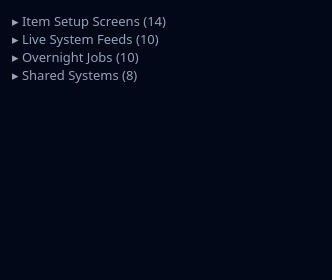
it: TreeView › clicking a node re-roots the tree at that node and shows a back control
Click the text "Overnight Jobs".
click(67, 57)  # box [22,48,112,66]
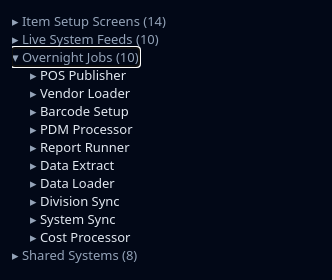
Click the button "POS Publisher".
click(83, 75)  # box [40,66,126,84]
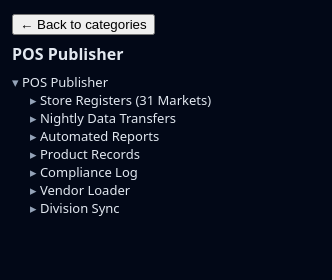
Now the button "← Back to categories" is shown, box [12,14,155,35]
Now the text with test id "tree-root-label" reads "POS Publisher", box [12,43,123,65]
